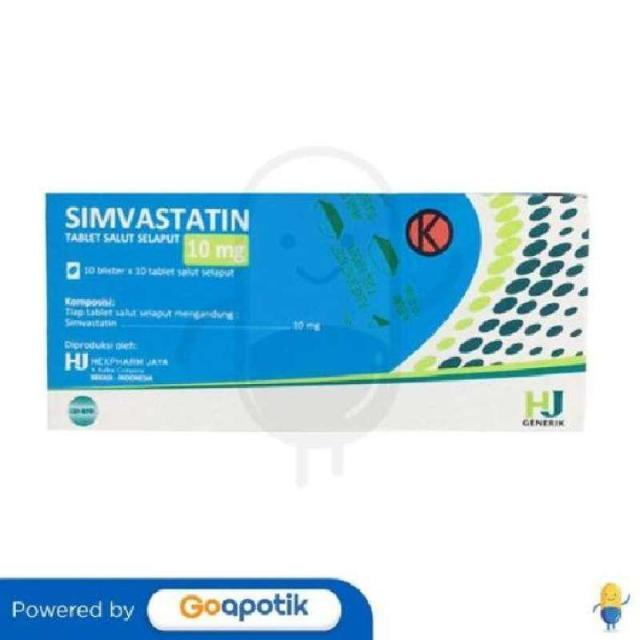drug-name: (59, 198, 256, 232)
